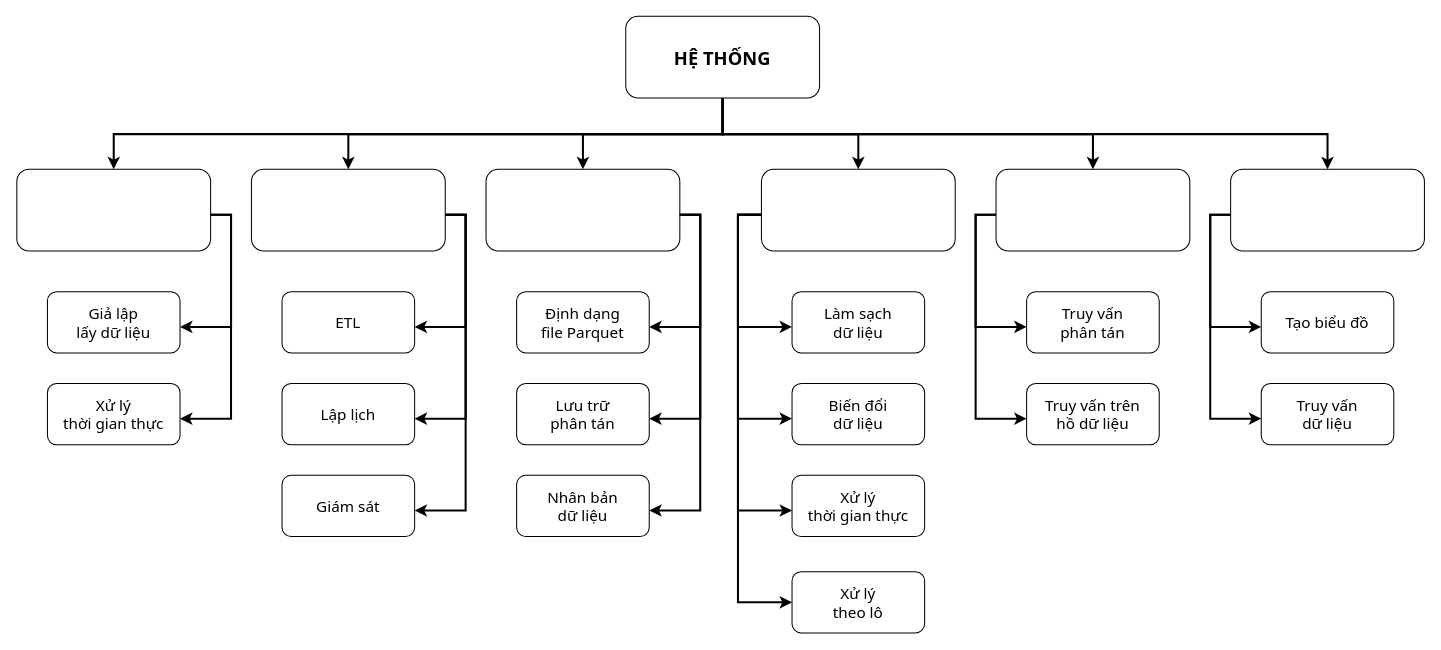
This 1441x650 diagram has some shape labels left out. Here are the shapes that lost their labels. From the top down, the centre of each, then its label:
the point at 113,209: Mô-đun thu thập dữ liệu
the point at 347,209: Mô-đun lập lịch tác vụ
the point at 582,209: Mô-đun lưu trữ dữ liệu
the point at 857,209: Mô-đun xử lý dữ liệu
the point at 1092,209: Mô-đun truy vấn dữ liệu
the point at 1327,209: Mô-đun trực quan hóa dữ liệu
